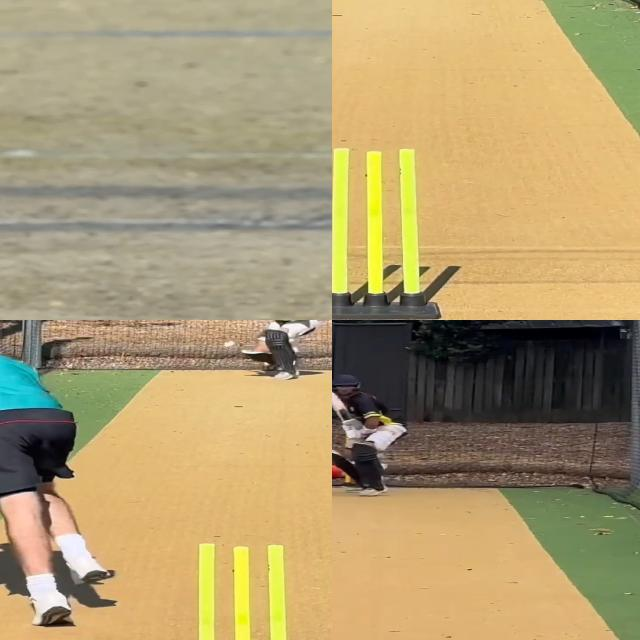Cricket ball: (223, 340, 236, 348)
Stumps: (332, 148, 441, 320), (181, 541, 307, 640)
